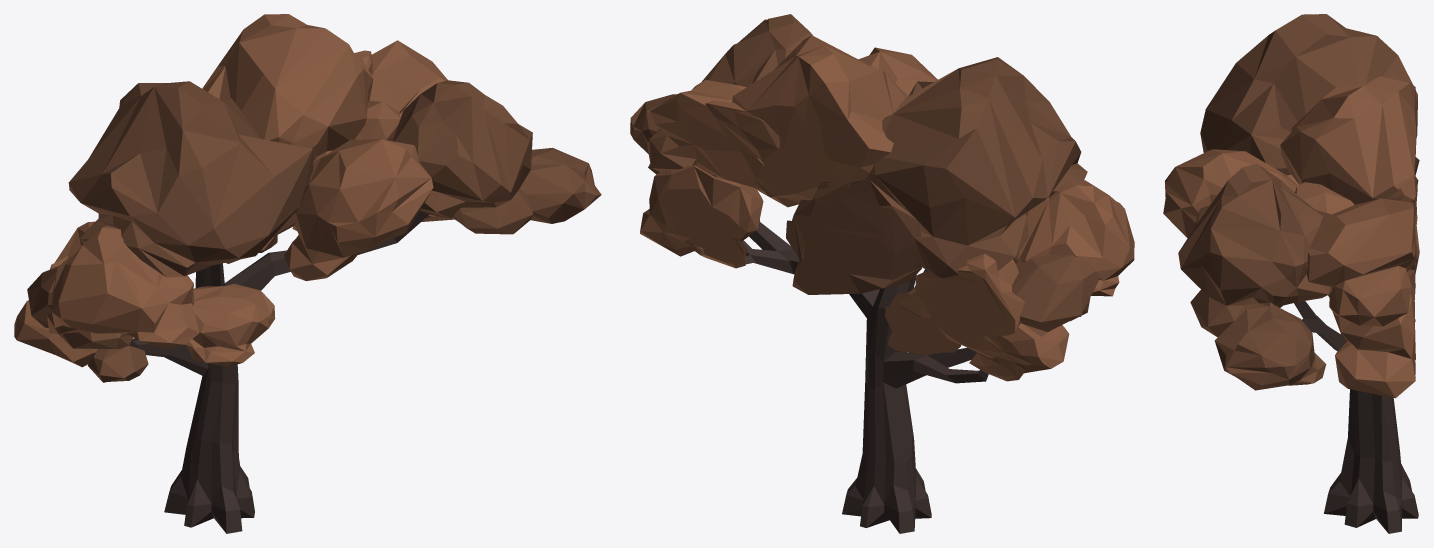
The model's file is SM_Env_Tree_Facade_01.fbx.
3 views of the same model, side by side, from view 1: azimuth 30°, elevation 25°; view 2: azimuth 150°, elevation 25°; view 3: azimuth 270°, elevation 25° (orthographic). The views are drawn at different scales.
Visible parts, largest first — view 1: SM_Env_Tree_Facade_01; view 2: SM_Env_Tree_Facade_01; view 3: SM_Env_Tree_Facade_01.
Part boxes in pixels (x1,y1,x2,y2): SM_Env_Tree_Facade_01: (14,14,601,533); SM_Env_Tree_Facade_01: (630,14,1134,533); SM_Env_Tree_Facade_01: (1163,14,1419,533).
Size of the model in its own units: 1133 by 981 by 484.
1 material, 1 textured.
